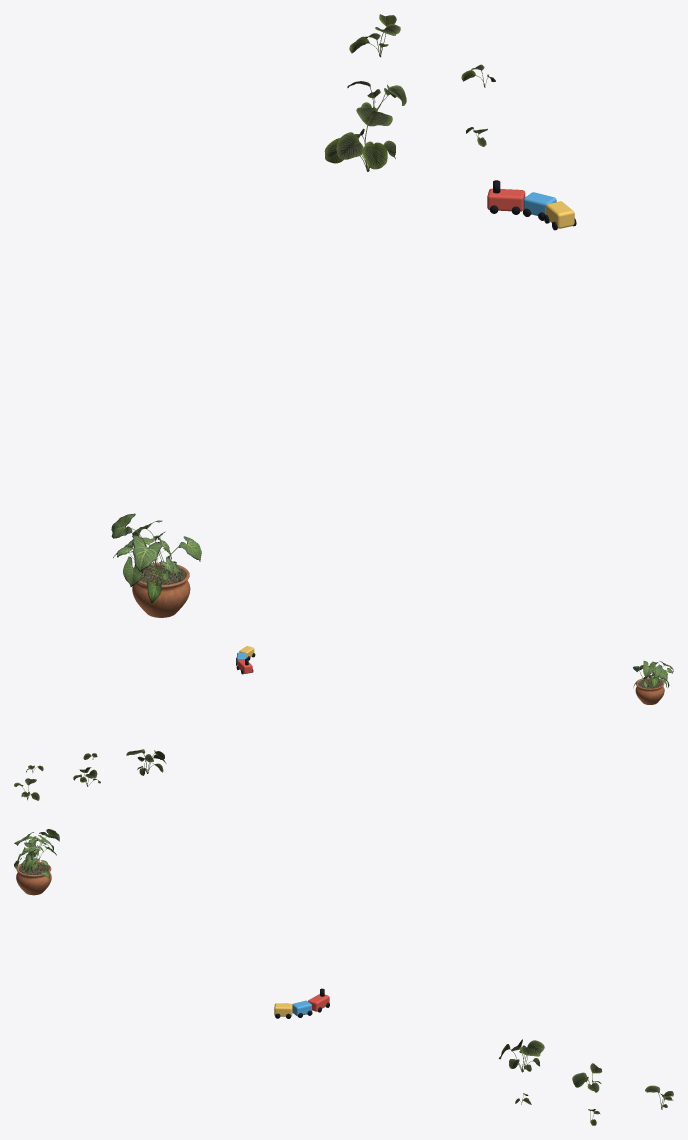
File: room_rails_props_m.glb
3 views of the same model, one above another, from view 1: azimuth 30°, elevation 25°; view 2: azimuth 150°, elevation 25°; view 3: azimuth 270°, elevation 25° (orthographic). The views are drawn at different scales.
Parts seen in each view (by area): view 1: prop_potted_plant_02_1_potted_plant_02_leaves, prop_calathea_orbifolia_01_2_calathea_orbifolia_01_a, prop_potted_plant_02_1_potted_plant_02_pot; view 2: prop_potted_plant_02_1_potted_plant_02_leaves, prop_potted_plant_02_1_potted_plant_02_pot, prop_calathea_orbifolia_01_2_calathea_orbifolia_01_a; view 3: prop_potted_plant_02_1_potted_plant_02_leaves, prop_calathea_orbifolia_01_2_calathea_orbifolia_01_a, prop_potted_plant_02_1_potted_plant_02_pot.
Boxes of the visible parts, x1,y1,x2,y2 form: prop_potted_plant_02_1_potted_plant_02_leaves: [111, 513, 201, 602]; prop_calathea_orbifolia_01_2_calathea_orbifolia_01_a: [324, 107, 395, 171]; prop_potted_plant_02_1_potted_plant_02_pot: [132, 562, 190, 617]; prop_potted_plant_02_1_potted_plant_02_leaves: [633, 661, 673, 688]; prop_potted_plant_02_1_potted_plant_02_pot: [635, 677, 664, 704]; prop_calathea_orbifolia_01_2_calathea_orbifolia_01_a: [126, 749, 166, 775]; prop_potted_plant_02_1_potted_plant_02_leaves: [14, 829, 59, 878]; prop_calathea_orbifolia_01_2_calathea_orbifolia_01_a: [498, 1039, 544, 1072]; prop_potted_plant_02_1_potted_plant_02_pot: [16, 861, 51, 895].
Bounding box in the file's own units: 7.86 × 1.06 × 8.78.
7 materials, 3 textured.
